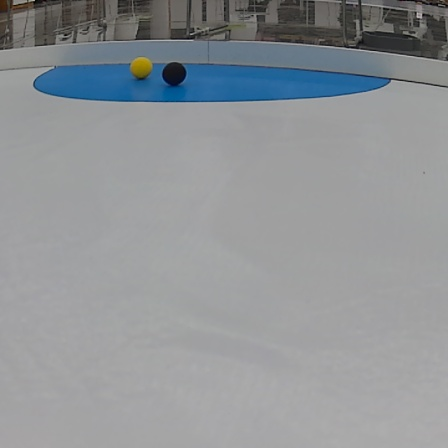black: (161, 62, 190, 86)
blue_base: (30, 64, 392, 104)
yellow: (126, 54, 155, 80)
